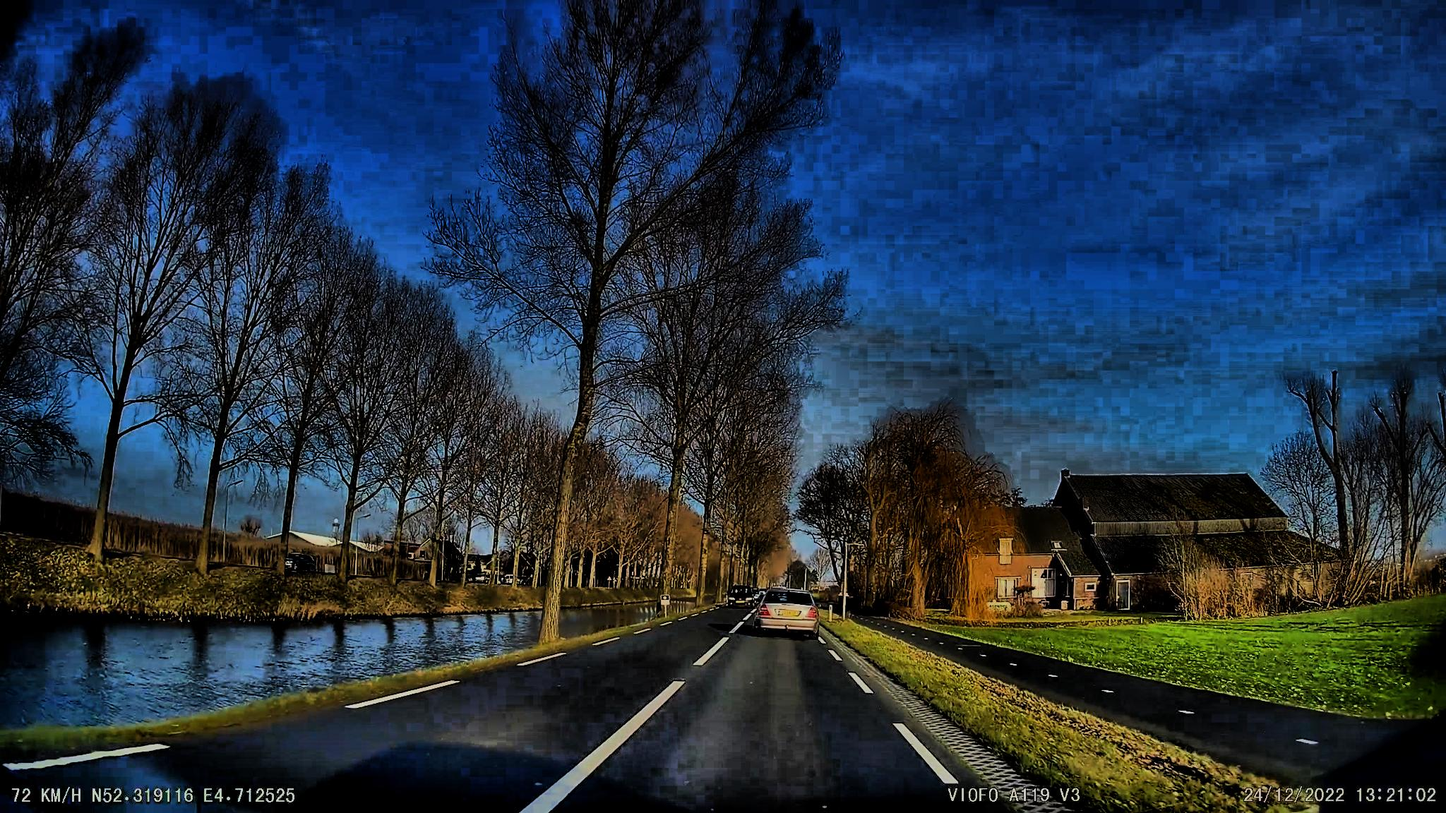Roads: (0, 610, 1078, 813)
